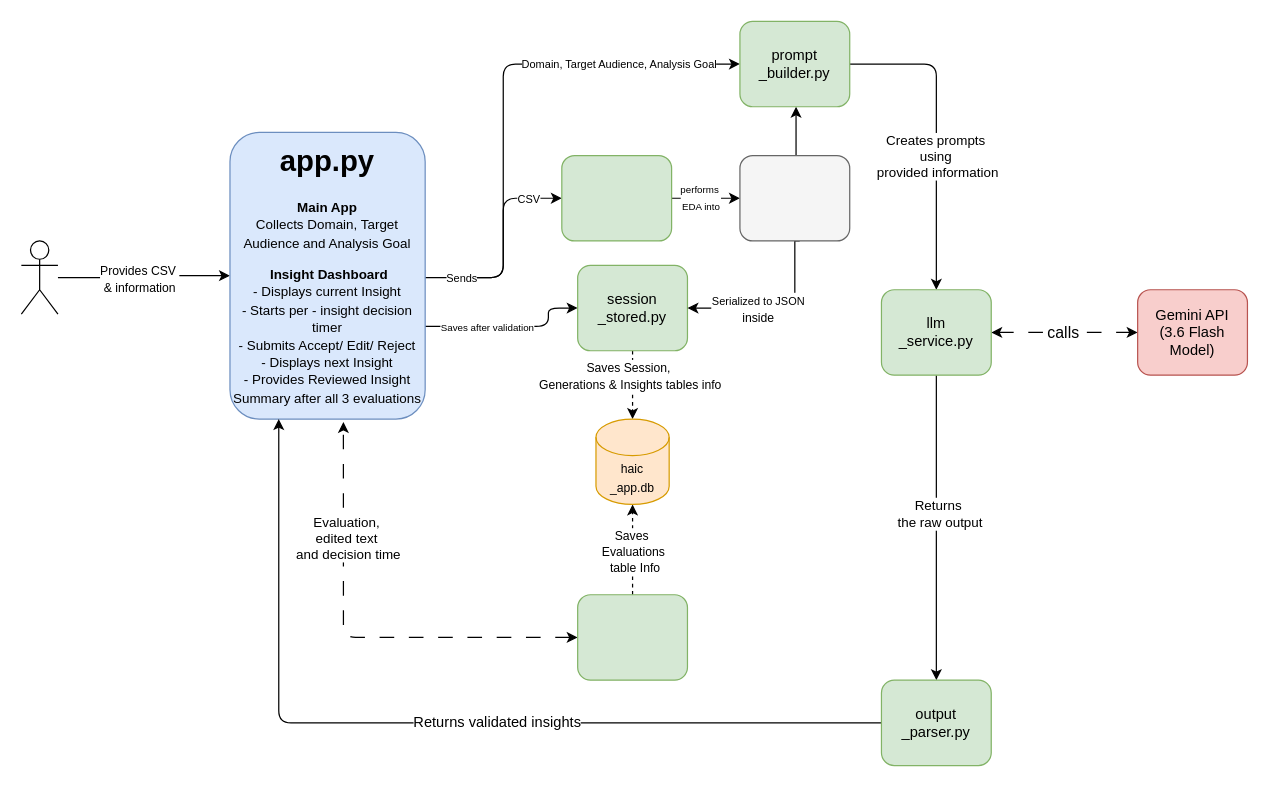
Image size: 1269x787. Some labels were removed from this diagram. The centre of each missing label's shape, as x and y in pixels:
"eda _engine.py" goes at (616,197).
"EDA Package (Python Dictionary)" goes at (794,197).
"evaluation _handler.py" goes at (631,637).
"User" goes at (39,277).
